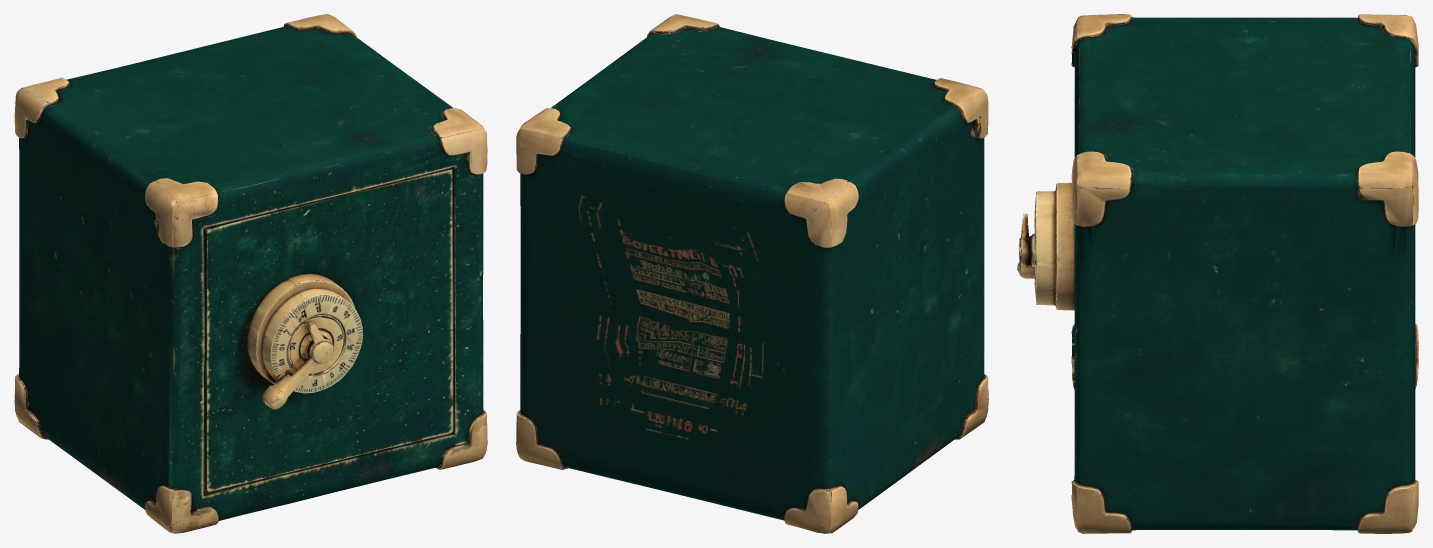
The model's file is safe.glb.
3 views of the same model, side by side, from view 1: azimuth 30°, elevation 25°; view 2: azimuth 150°, elevation 25°; view 3: azimuth 270°, elevation 25° (orthographic). The views are drawn at different scales.
Parts seen in each view (by area): view 1: safe; view 2: safe; view 3: safe.
Part boxes in pixels (x1,y1,x2,y2): safe: [14, 14, 487, 533]; safe: [516, 14, 988, 533]; safe: [1017, 14, 1418, 533].
Size of the model in its own units: 0.9925 by 1 by 0.9996.
1 material, 1 textured.
